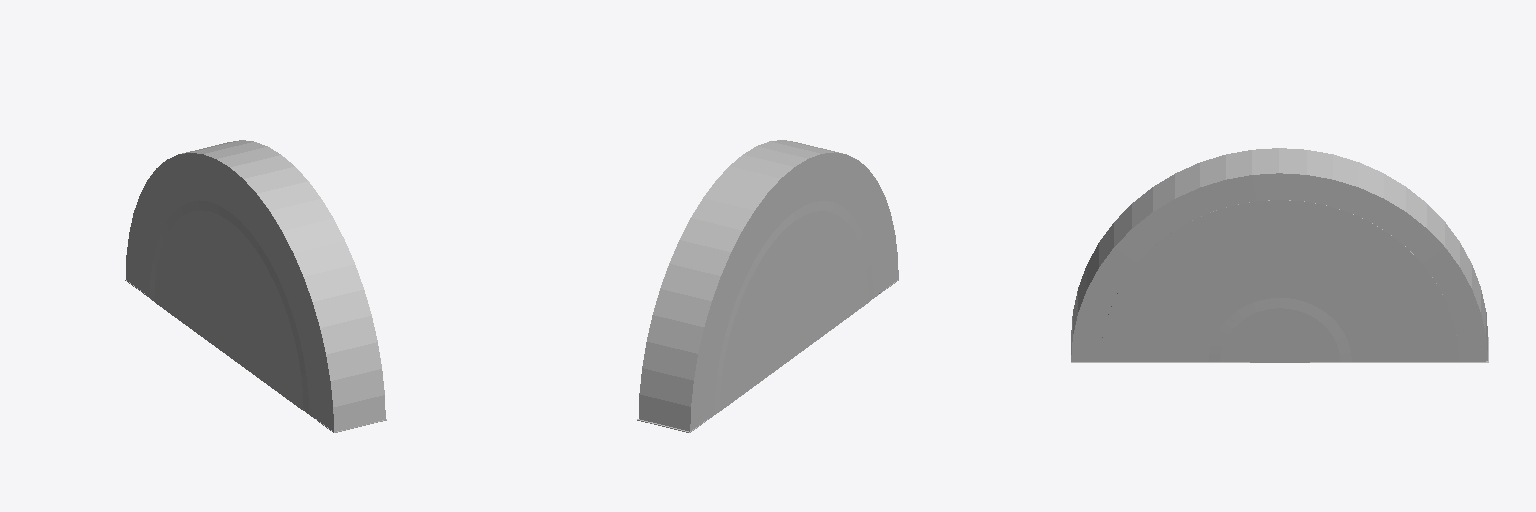
Rendered from rainbow uv map.obj.
3 views of the same model, side by side, from view 1: azimuth 30°, elevation 25°; view 2: azimuth 150°, elevation 25°; view 3: azimuth 270°, elevation 25° (orthographic).
Visible parts, largest first — view 1: loftedSurface26, textureEditorIsolateSelectSet loftedSurface26; view 2: loftedSurface26, textureEditorIsolateSelectSet loftedSurface26; view 3: loftedSurface26, textureEditorIsolateSelectSet loftedSurface26.
Part boxes in pixels (x1,y1,x2,y2): loftedSurface26: (125, 153, 386, 432); textureEditorIsolateSelectSet loftedSurface26: (128, 140, 385, 431); loftedSurface26: (637, 152, 898, 432); textureEditorIsolateSelectSet loftedSurface26: (639, 140, 875, 431); loftedSurface26: (1071, 200, 1488, 362); textureEditorIsolateSelectSet loftedSurface26: (1071, 148, 1487, 361).
Bounding box in the file's own units: 2.06 × 7.03 × 14.